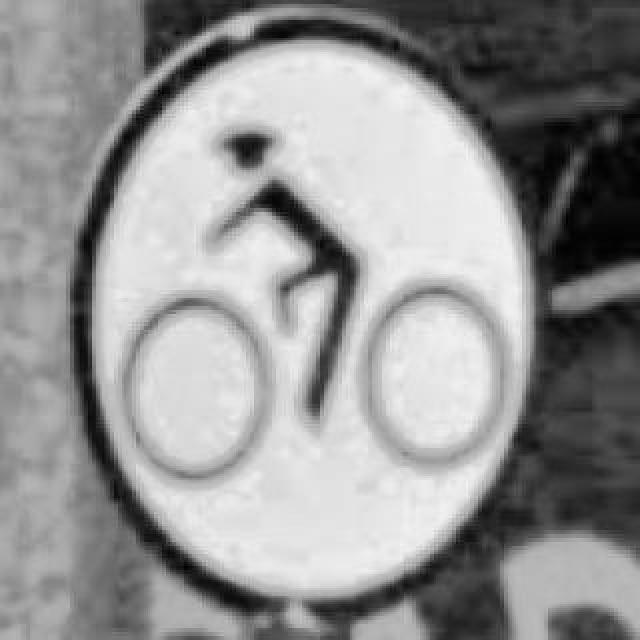bike lane: (62, 0, 540, 612)
